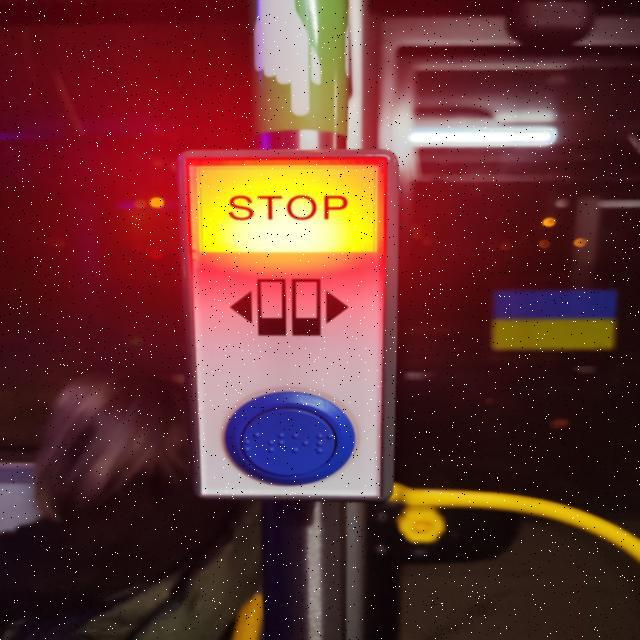Circle: (224, 390, 359, 487), (286, 192, 318, 223)
